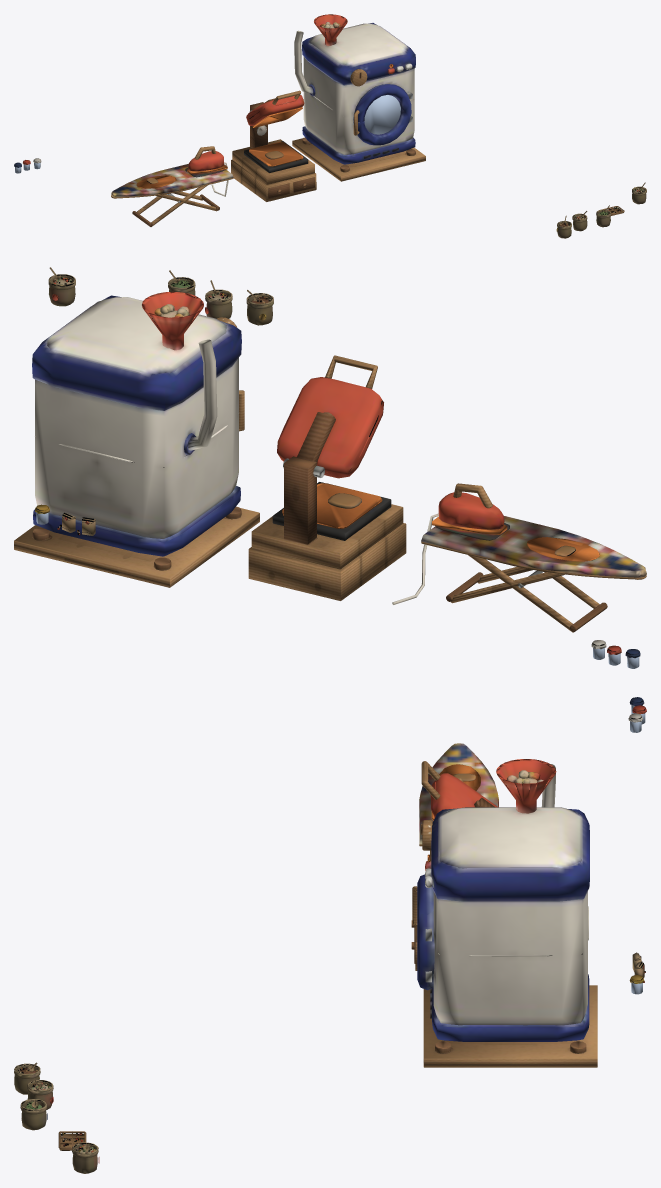
The model's file is kitchen.glb.
3 views of the same model, one above another, from view 1: azimuth 30°, elevation 25°; view 2: azimuth 150°, elevation 25°; view 3: azimuth 270°, elevation 25° (orthographic). The views are drawn at different scales.
Parts seen in each view (by area): view 1: prop_kitchen_felt, prop_kitchen_wood, prop_kitchen_felt_heat, prop_kitchen_glass; view 2: prop_kitchen_felt, prop_kitchen_wood, prop_kitchen_felt_heat; view 3: prop_kitchen_felt, prop_kitchen_wood.
Boxes of the visible parts, left/top/right/bottom form: prop_kitchen_felt: left=14, top=14, right=646, bottom=238; prop_kitchen_wood: left=111, top=69, right=645, bottom=226; prop_kitchen_felt_heat: left=136, top=64, right=393, bottom=188; prop_kitchen_glass: left=15, top=95, right=400, bottom=173; prop_kitchen_felt: left=32, top=274, right=646, bottom=658; prop_kitchen_wood: left=14, top=267, right=646, bottom=632; prop_kitchen_felt_heat: left=282, top=483, right=599, bottom=561; prop_kitchen_felt: left=14, top=697, right=646, bottom=1173; prop_kitchen_wood: left=28, top=761, right=597, bottom=1151.
Bounding box in the file's own units: 15.12 × 4.13 × 9.82.
Materials: 4 (3 with a texture image).
